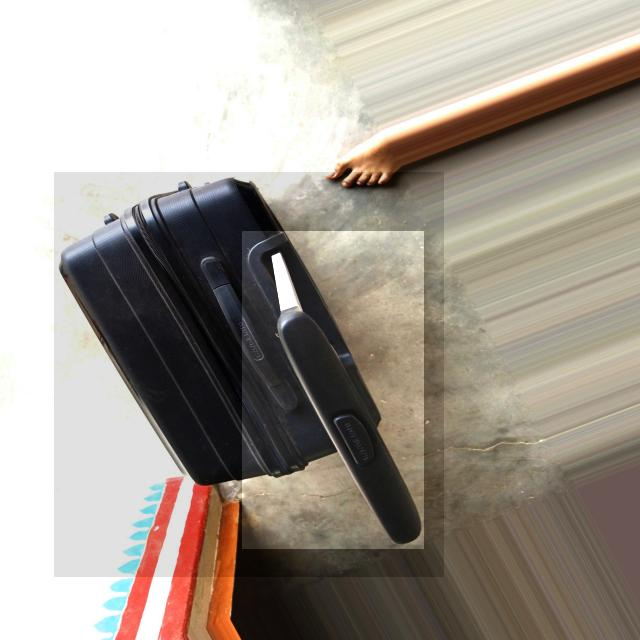Bag: (49, 165, 433, 567)
Handle: (256, 238, 429, 564)
